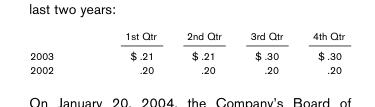table: (29, 29, 343, 75)
table column: (88, 29, 170, 75), (170, 29, 235, 75), (235, 29, 297, 75), (29, 29, 88, 75), (297, 29, 343, 75)
table column header: (29, 29, 343, 45)
table row: (29, 45, 343, 62), (29, 29, 343, 45), (29, 62, 343, 75)
